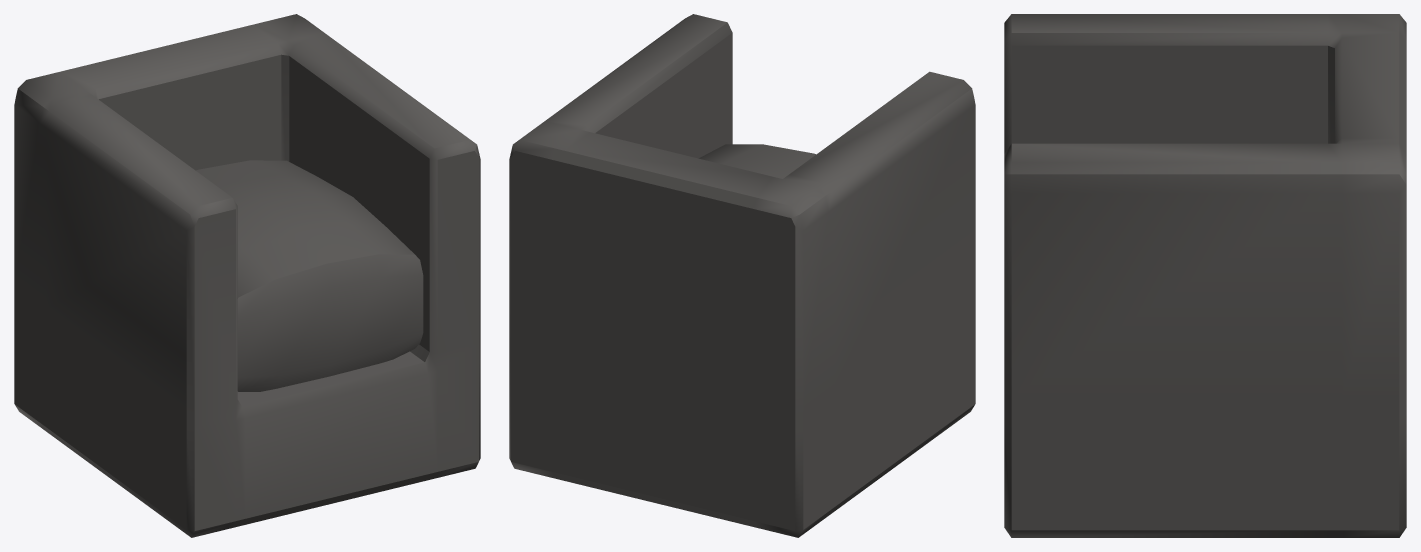
Rendered from pk_reclc_grey.glb.
The picture shows the model from 3 angles, left to right: view 1: azimuth 30°, elevation 25°; view 2: azimuth 150°, elevation 25°; view 3: azimuth 270°, elevation 25°; orthographic projection. The views are drawn at different scales.
Parts seen in each view (by area): view 1: pk_reclc_grey; view 2: pk_reclc_grey; view 3: pk_reclc_grey.
Part boxes in pixels (box(x1,y1,x2,y2)): pk_reclc_grey: box(14, 14, 480, 537); pk_reclc_grey: box(509, 14, 975, 537); pk_reclc_grey: box(1004, 14, 1406, 537).
Size of the model in its own units: 0.95 by 1.02 by 1.
1 material, 1 textured.
